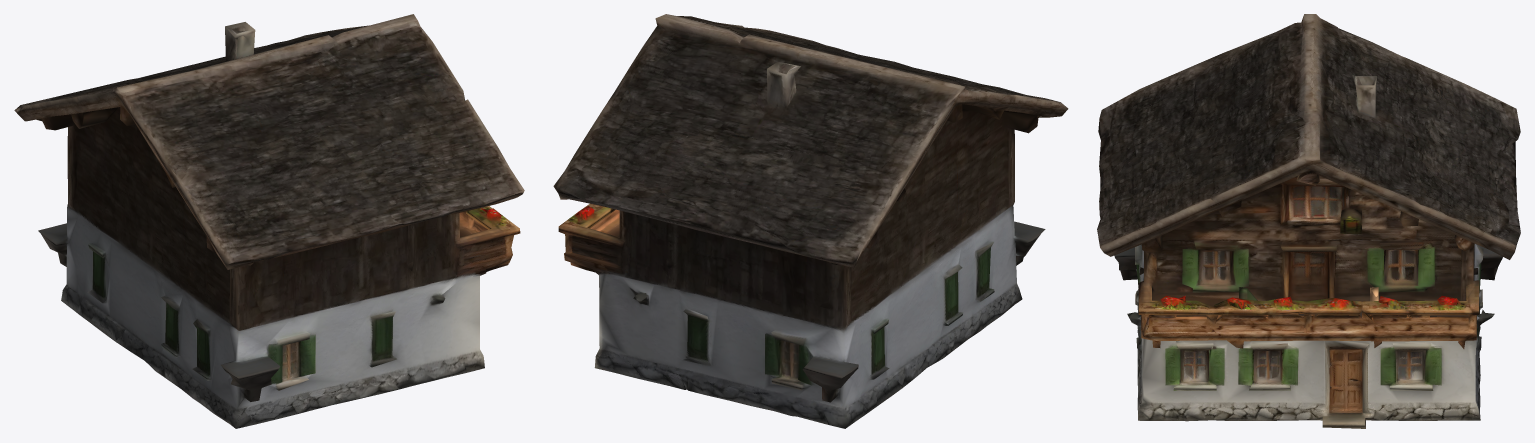
Rendered from alpine_house_tripo.glb.
3 views of the same model, side by side, from view 1: azimuth 30°, elevation 25°; view 2: azimuth 150°, elevation 25°; view 3: azimuth 270°, elevation 25° (orthographic). The views are drawn at different scales.
Visible parts, largest first — view 1: tripo_node_899bd0ad-e6ae-41f9-807d-d9f34f6be823; view 2: tripo_node_899bd0ad-e6ae-41f9-807d-d9f34f6be823; view 3: tripo_node_899bd0ad-e6ae-41f9-807d-d9f34f6be823.
Part boxes in pixels (x1,y1,x2,y2): tripo_node_899bd0ad-e6ae-41f9-807d-d9f34f6be823: (14, 14, 524, 428); tripo_node_899bd0ad-e6ae-41f9-807d-d9f34f6be823: (553, 14, 1068, 428); tripo_node_899bd0ad-e6ae-41f9-807d-d9f34f6be823: (1097, 14, 1520, 428).
Size of the model in its own units: 0.8363 by 0.7296 by 1.
1 material, 1 textured.
